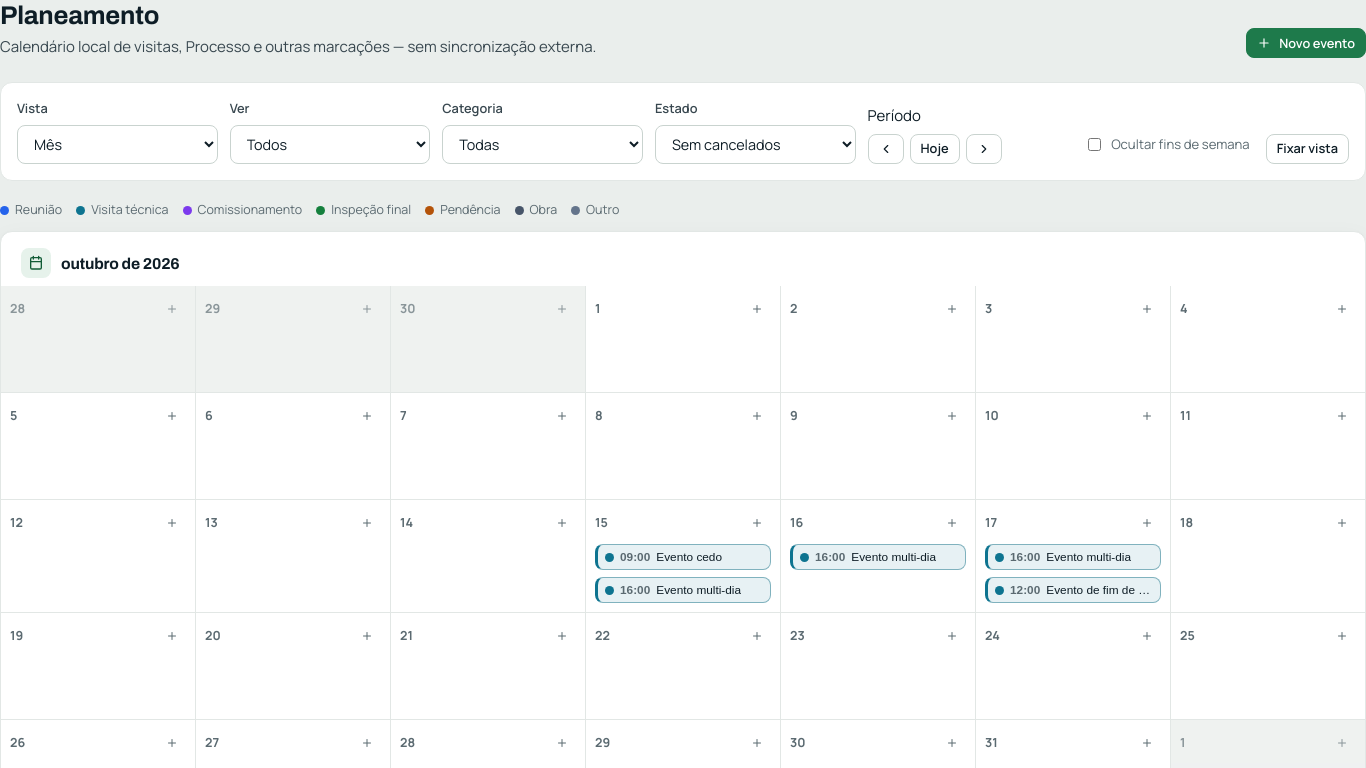
Test: Planeamento › muda para a vista de lista, ordena e agrupa uma fonte multi-dia sem mostrar fins de semana ocultos
The image size is (1366, 768).
Expected: the text "Evento cedo" is shown, [656,550,722,564]
Select "Lista" in the dropdown labelled "Vista" at (117, 144), box [17,125,218,164]
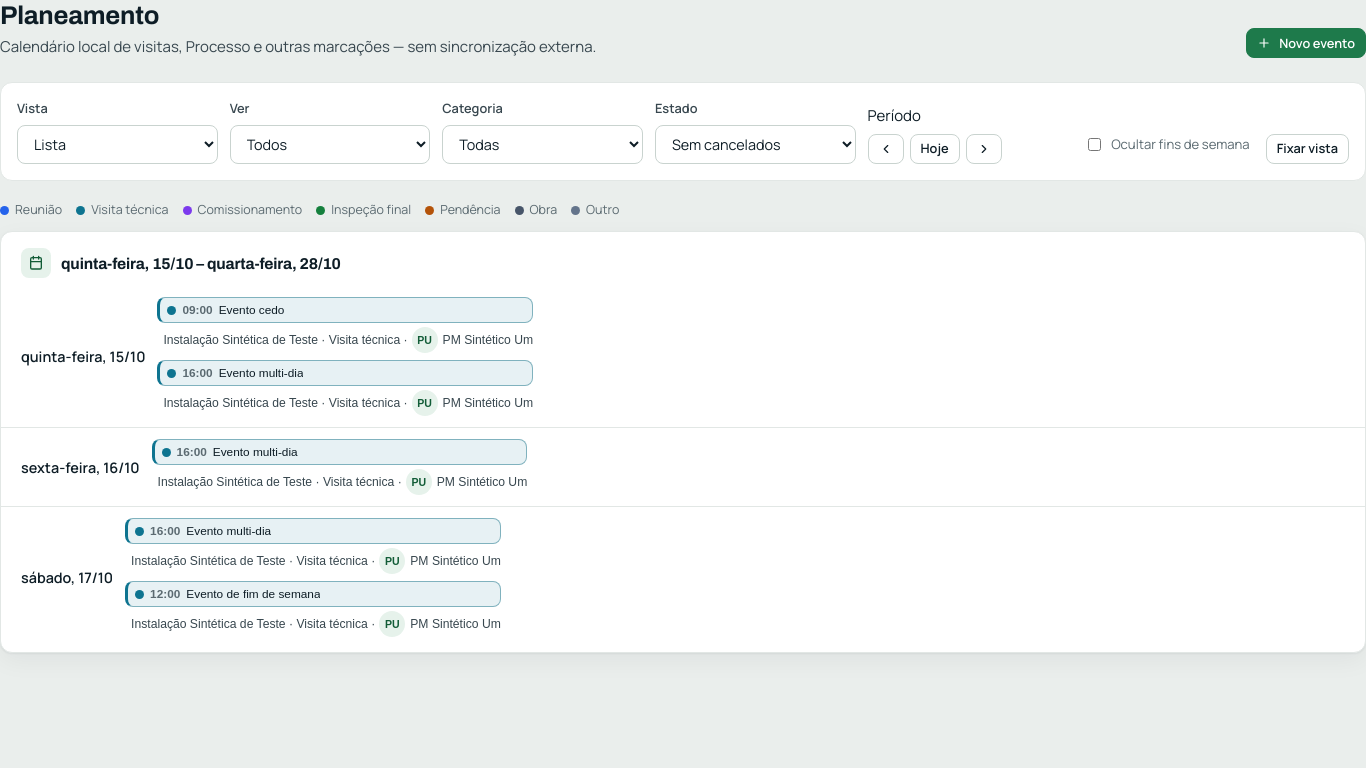
Expected: the number of list items with test id "planning-day" is 3, [21,297,533,416]; [1,427,1365,506]; [1,506,1365,648]
Click the checkbox labelled "Ocultar fins de semana" at (1095, 145), box [1088,138,1101,151]
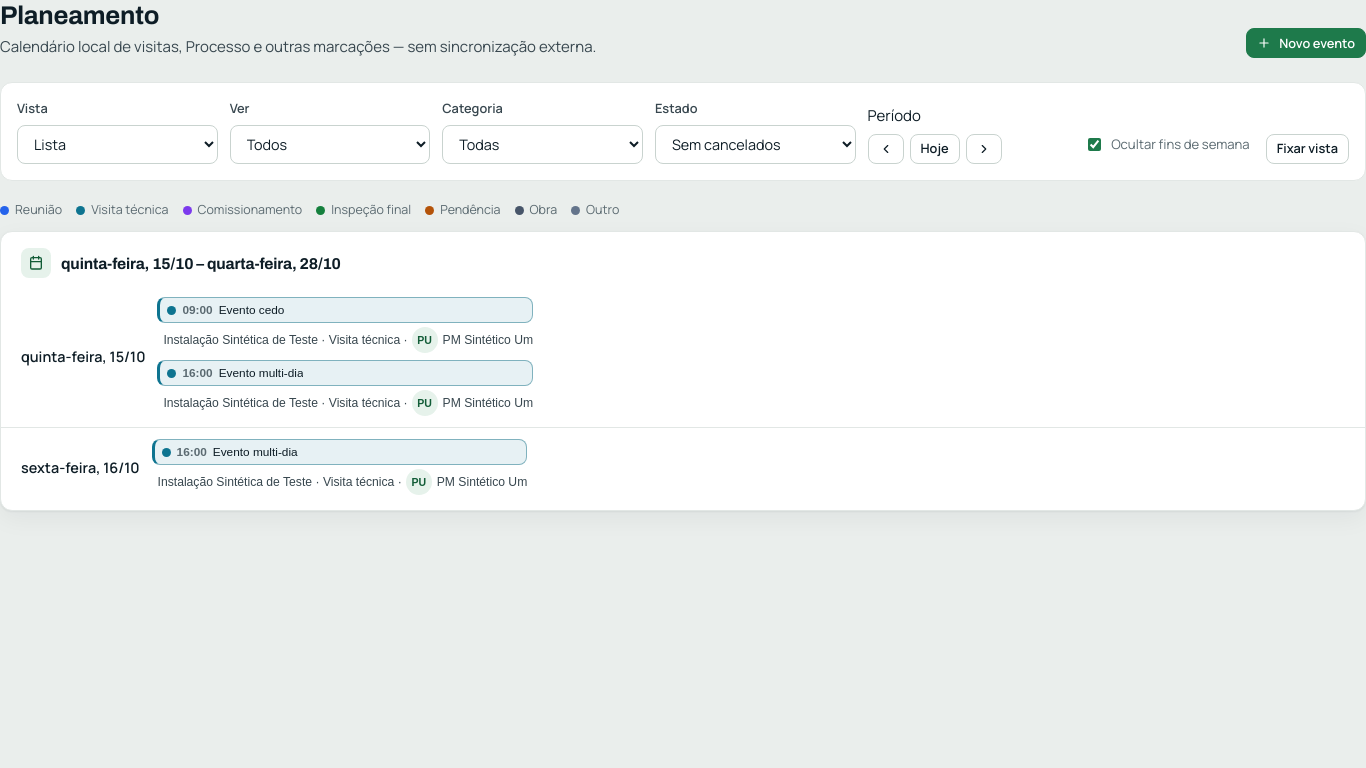
Expected: the list item with test id "planning-day" shows "quinta-feira", [21,347,145,366]
Expected: the list item with test id "planning-day" shows "sexta-feira", [21,458,140,477]
Expected: the number of list items with test id "planning-day" is 2, [21,297,533,416]; [1,427,1365,506]
Click the button "Evento cedo" at (345, 325), box [157,297,533,353]
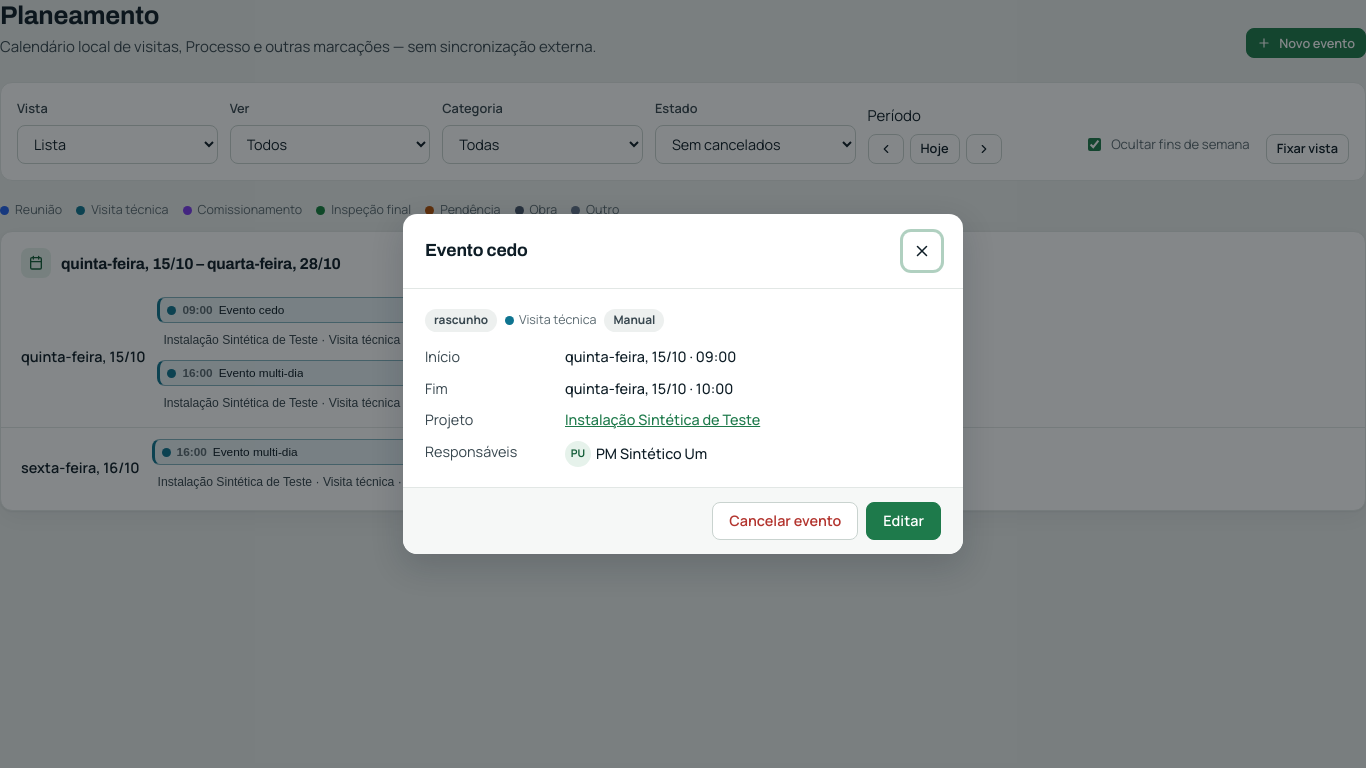
Expected: the heading "Evento cedo" is shown, [425,240,528,262]
Click the button named "Fechar" at (922, 251), box [903,232,941,270]
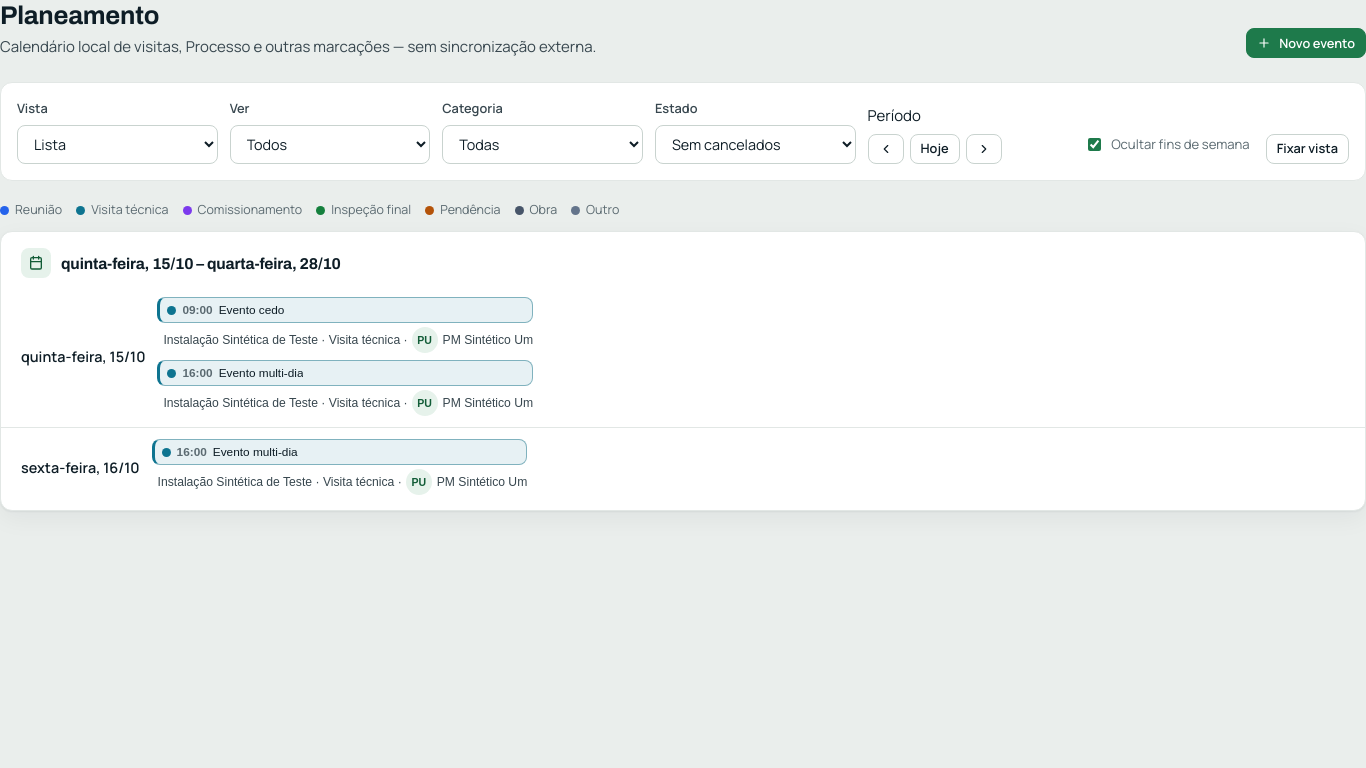
Press Enter in the button "Evento cedo", box [157,297,533,353]
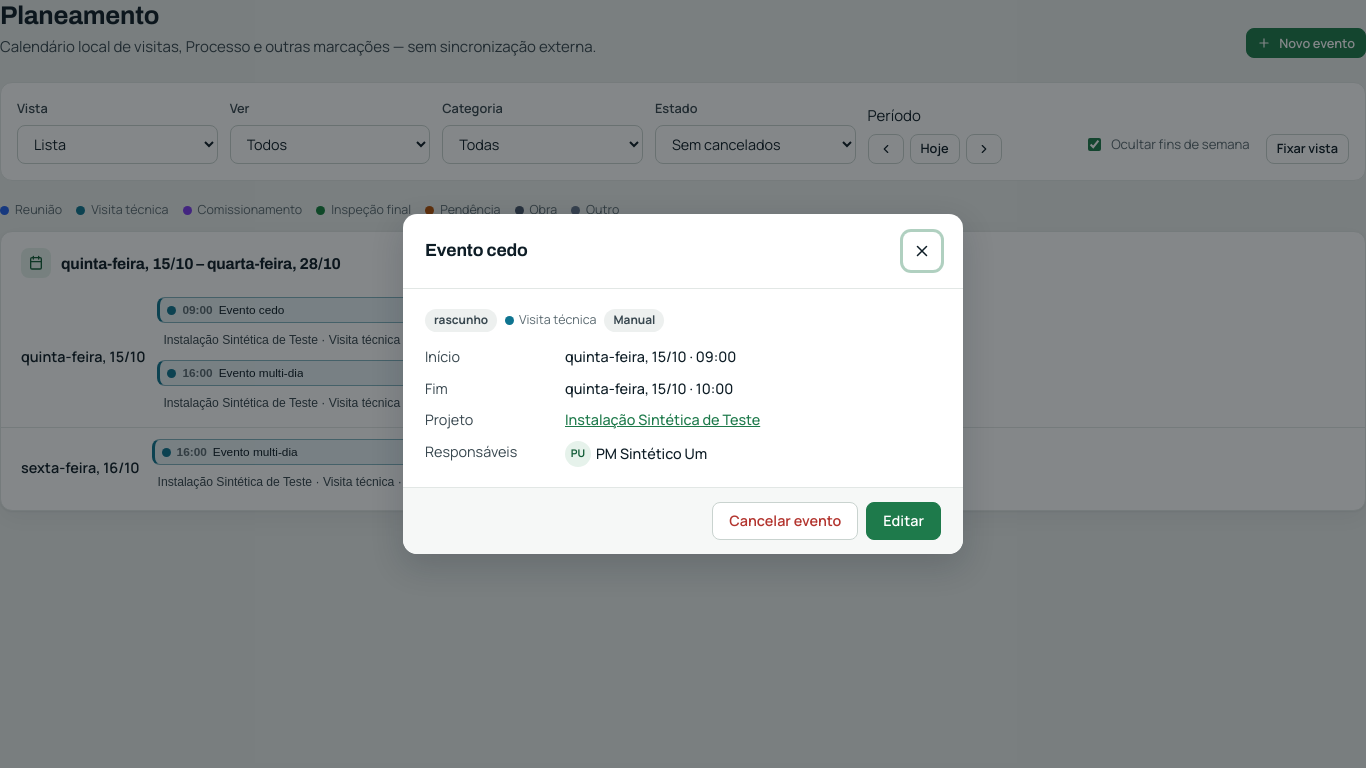
Expected: the dialog is shown, [403,214,963,554]
